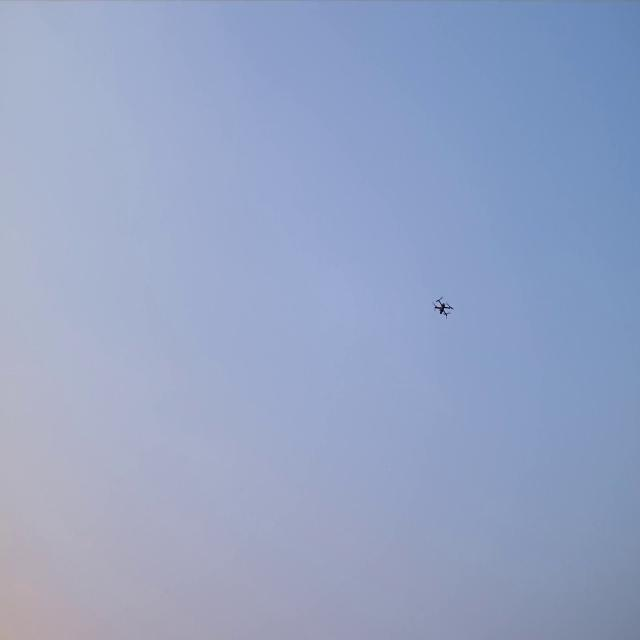UAV: (432, 294, 454, 320)
